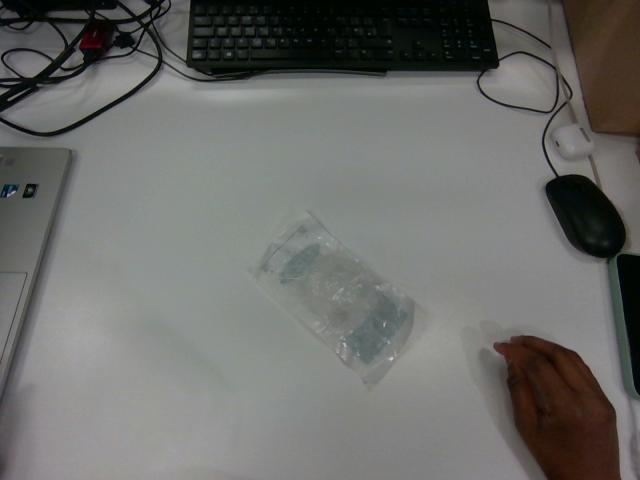gallipot: (255, 216, 413, 382)
